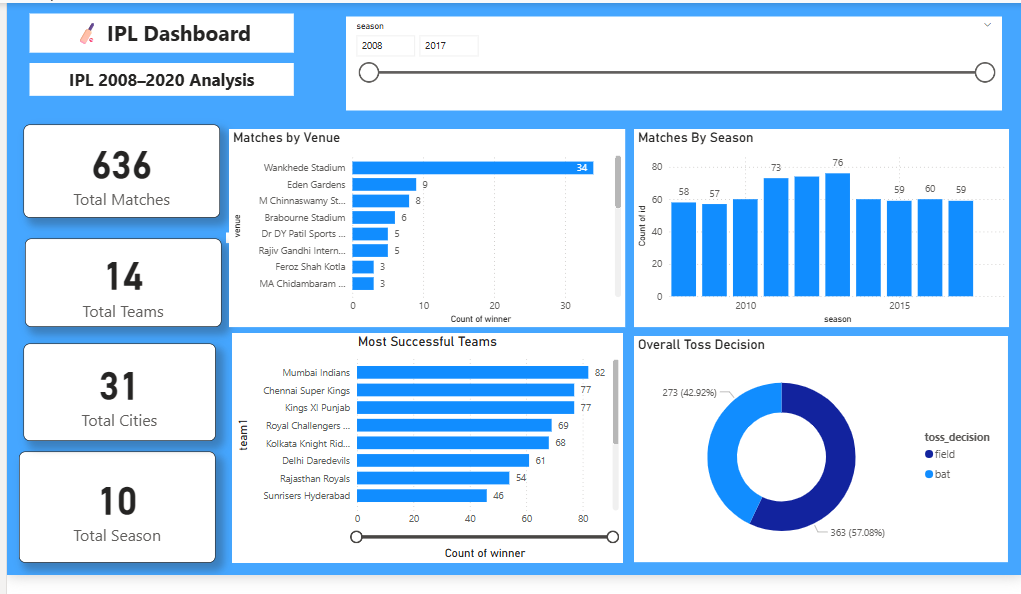

The page's visual inventory and layout, read from the dashboard file:
{"tool":"powerbi","page":{"name":"Team Performance","canvas":[1280,720],"ordinal":0},"visuals":[{"type":"card","fields":{"Values":["Count(matches (1) csv.id)","select"]},"box":[20.8,153.1,247.6,117.2],"z":0},{"type":"textbox","box":[275.9,289.1,13.2,13.2],"z":1000},{"type":"card","fields":{"Values":["select","Count(matches (1) csv.season)"]},"box":[15.1,565,247.6,139.8],"z":2000},{"type":"card","fields":{"Values":["select","Count(matches (1) csv.team1)"]},"box":[22.7,296.7,247.6,111.5],"z":3000},{"type":"card","fields":{"Values":["select","Count(matches (1) csv.city)"]},"box":[20.8,429,241.9,122.8],"z":4000},{"type":"textbox","box":[28.3,13.2,332.6,49.1],"z":5000},{"type":"textbox","box":[28.3,75.6,332.6,41.6],"z":6000},{"type":"clusteredBarChart","title":"Most Successful Teams","fields":{"Y":["CountNonNull(matches (1) csv.winner)"],"Category":["matches (1) csv.team1"]},"box":[282.9,414.6,491.7,289],"z":7000},{"type":"donutChart","title":"Overall Toss Decision","fields":{"Category":["matches (1) csv.toss_decision"],"Y":["CountNonNull(matches (1) csv.toss_decision)"]},"box":[789.8,419.1,470.5,284.4],"z":8000},{"type":"clusteredColumnChart","title":"Matches By Season","fields":{"Category":["matches (1) csv.season"],"Y":["CountNonNull(matches (1) csv.id)"]},"box":[789.1,158.6,472,249.2],"z":9000},{"type":"slicer","fields":{"Values":["matches (1) csv.season"]},"box":[426.7,17,825,117.1],"z":10000},{"type":"clusteredBarChart","title":"Matches by Venue","fields":{"Category":["matches (1) csv.venue"],"Y":["CountNonNull(matches (1) csv.winner)"]},"box":[279.4,158.6,498.4,249.2],"z":11000}]}

Visuals, with their boxes on the page's 1280x720 design canvas (x1, y1, x2, y2). These are canvas units, not pixel positions in the 1021x594 screenshot, which may show the page scaled, cropped or inside an application window:
card - Count(matches (1) csv.id) x select: 21:153:268:270
textbox: 276:289:289:302
card - select x Count(matches (1) csv.season): 15:565:263:705
card - select x Count(matches (1) csv.team1): 23:297:270:408
card - select x Count(matches (1) csv.city): 21:429:263:552
textbox: 28:13:361:62
textbox: 28:76:361:117
"Most Successful Teams" clusteredBarChart: 283:415:775:704
"Overall Toss Decision" donutChart: 790:419:1260:704
"Matches By Season" clusteredColumnChart: 789:159:1261:408
slicer - matches (1) csv.season: 427:17:1252:134
"Matches by Venue" clusteredBarChart: 279:159:778:408
